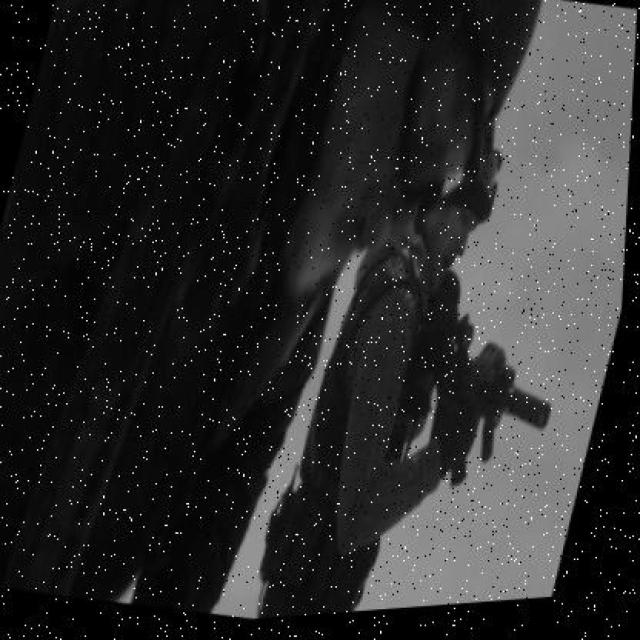weapon: (382, 312, 556, 492)
